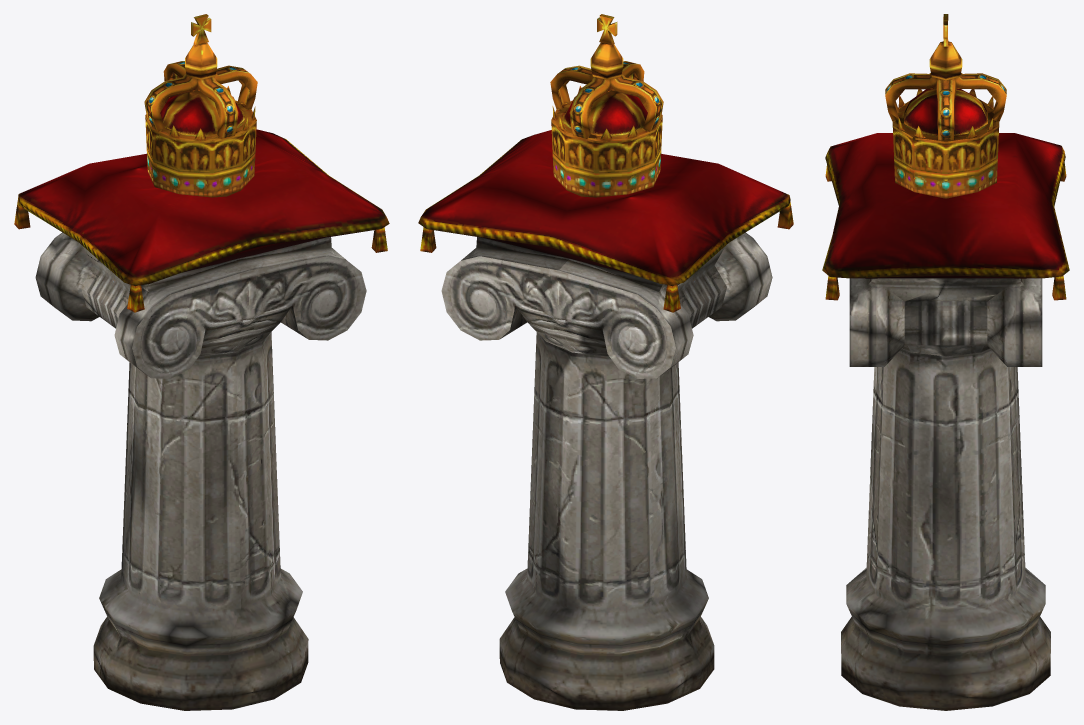
The model's file is poe-challenge-shrine.glb.
3 renders of one model, left to right at view 1: azimuth 30°, elevation 25°; view 2: azimuth 150°, elevation 25°; view 3: azimuth 270°, elevation 25°, orthographic.
Visible parts, largest first — view 1: poe-challenge-shrine_mesh; view 2: poe-challenge-shrine_mesh; view 3: poe-challenge-shrine_mesh.
Part boxes in pixels (x1=…): poe-challenge-shrine_mesh: x1=14, y1=14, x2=389, y2=710; poe-challenge-shrine_mesh: x1=418, y1=14, x2=793, y2=710; poe-challenge-shrine_mesh: x1=822, y1=14, x2=1069, y2=710.
Bounding box in the file's own units: 0.5317 × 1.25 × 0.4328.
Materials: 1 (1 with a texture image).
